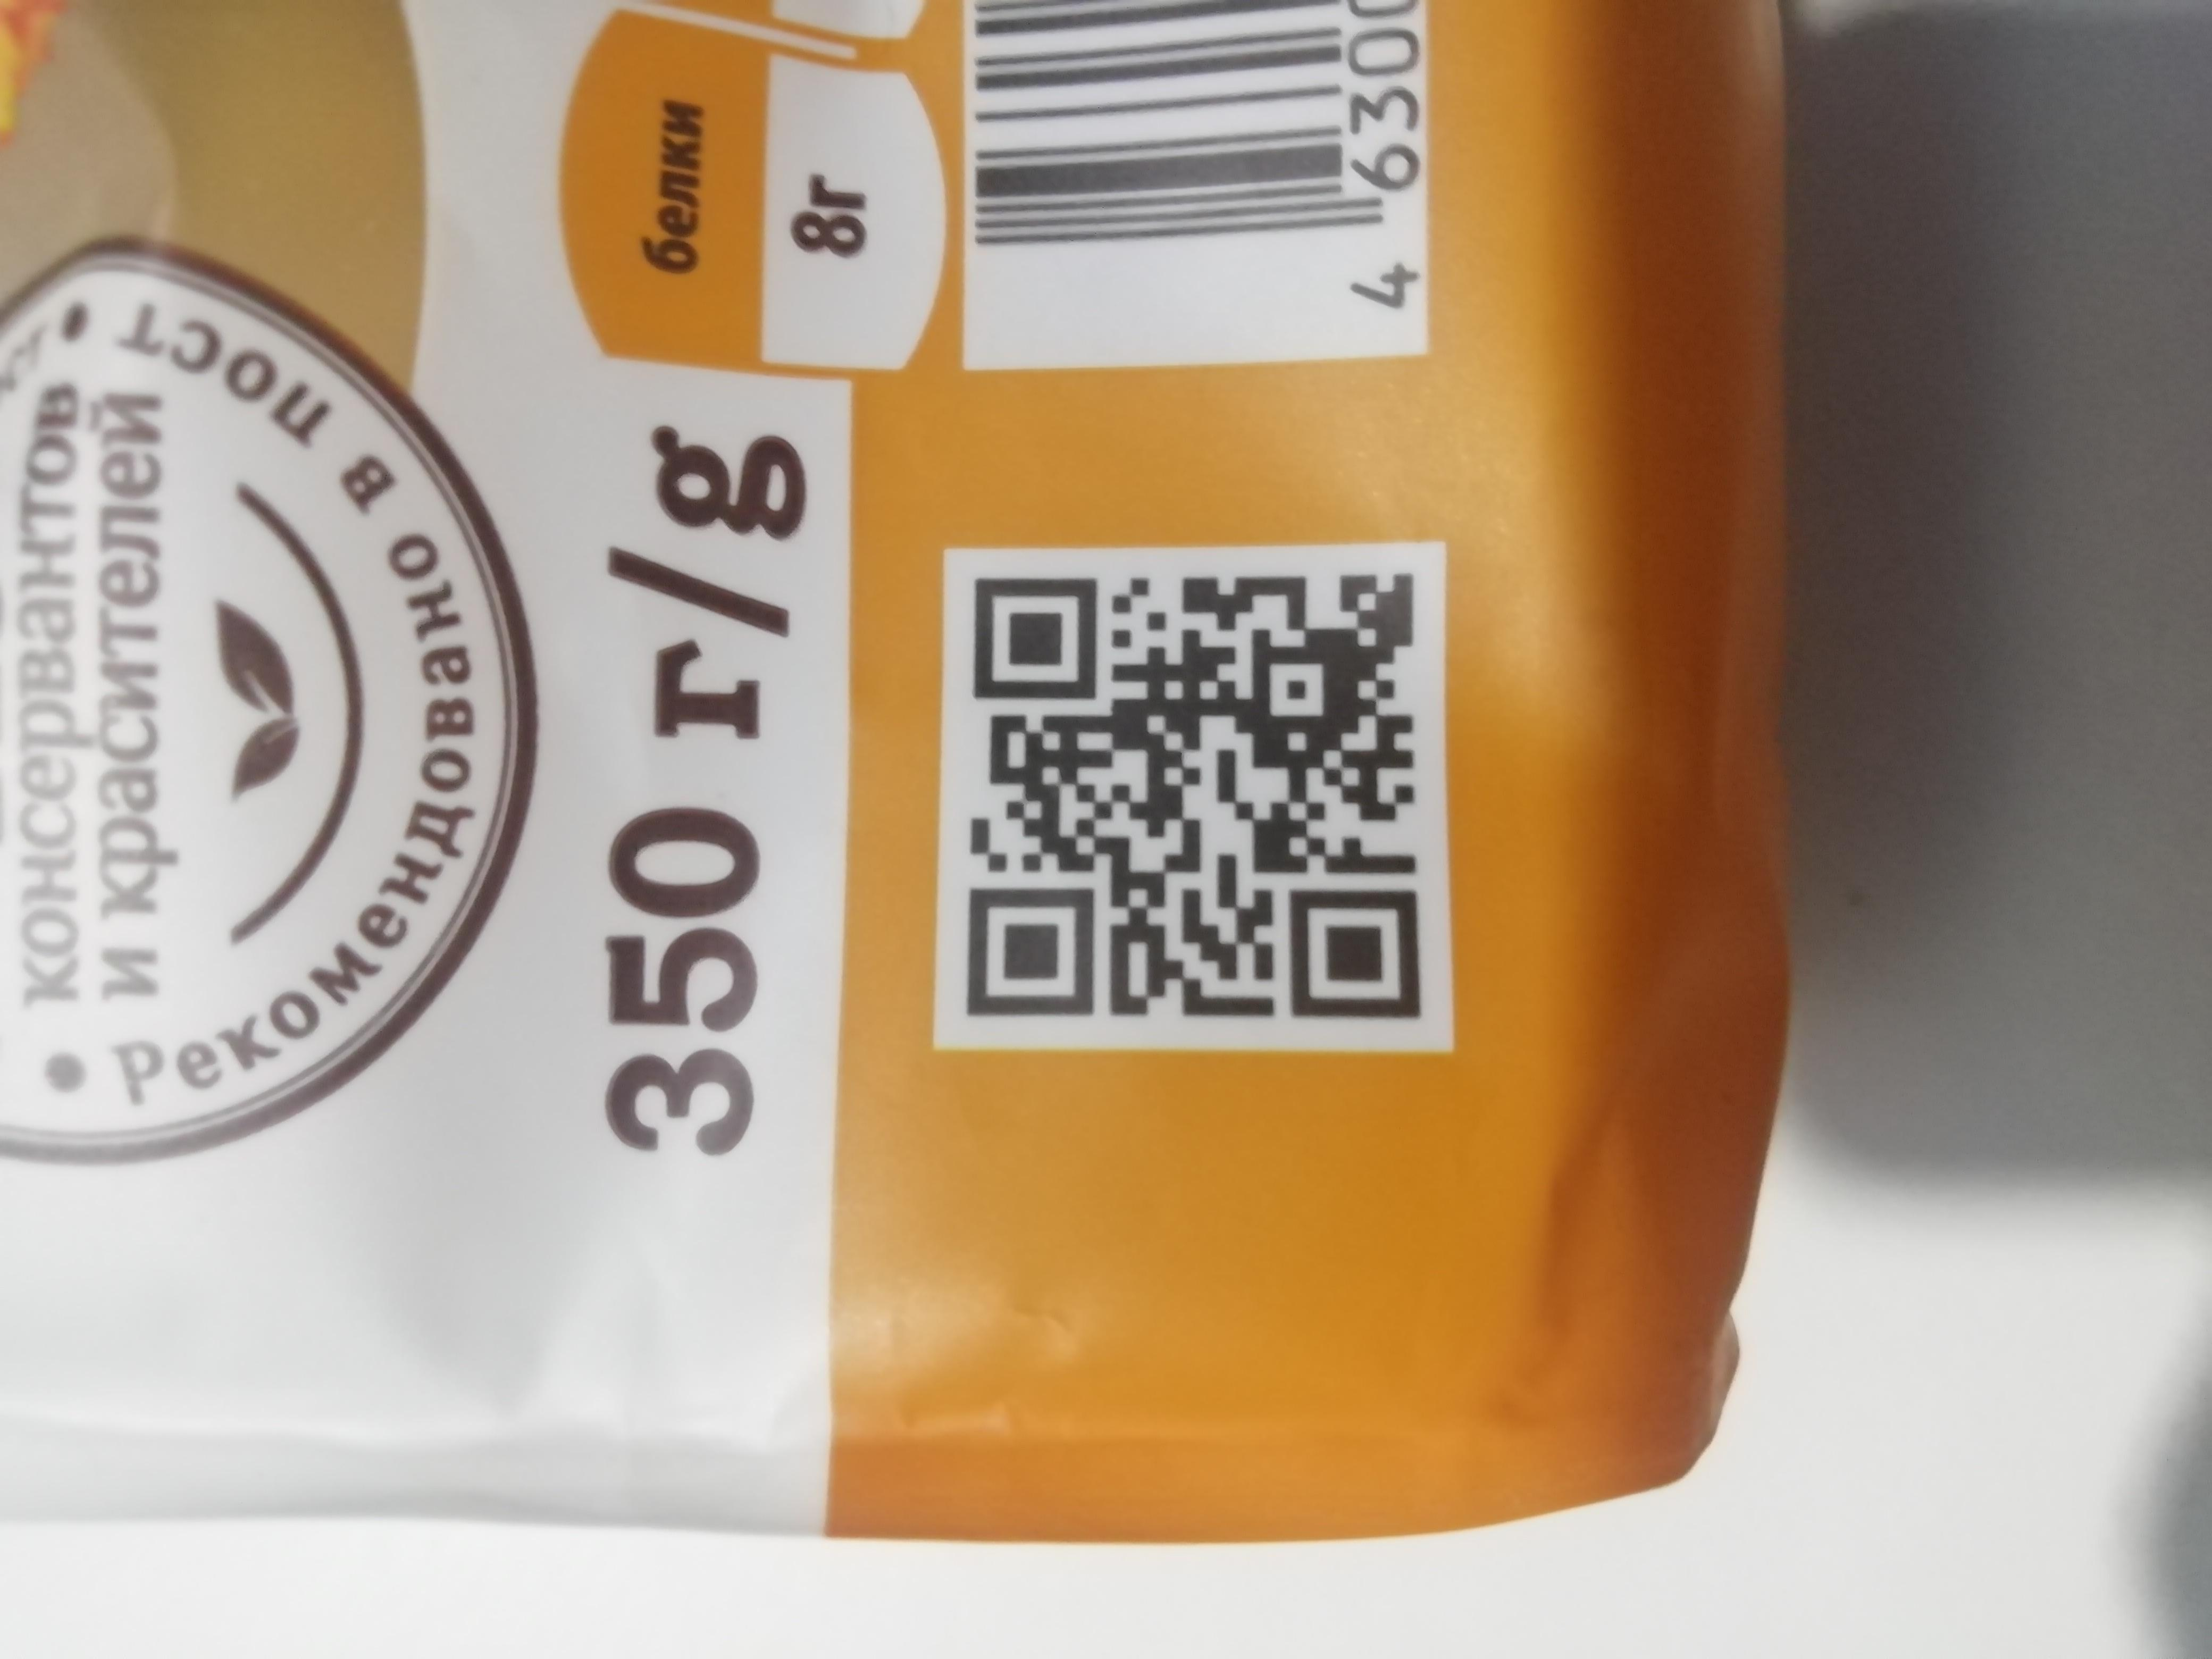qrcode: (968, 575, 1425, 1025)
